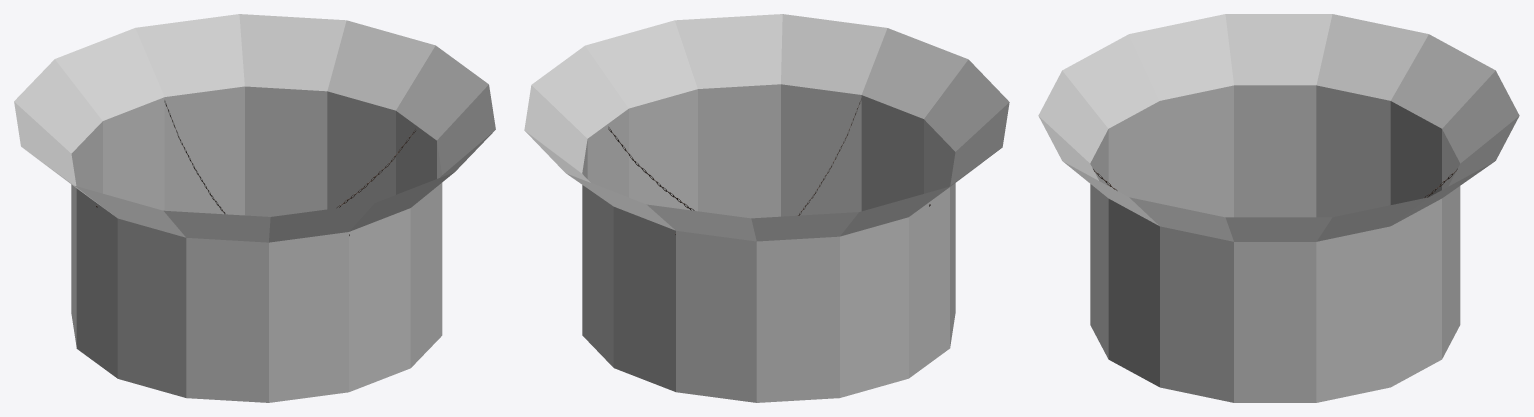
Rendered from BallOfDeath.fbx.
3 renders of one model, left to right at view 1: azimuth 30°, elevation 25°; view 2: azimuth 150°, elevation 25°; view 3: azimuth 270°, elevation 25°, orthographic.
Visible parts, largest first — view 1: Plane; view 2: Plane; view 3: Plane.
Boxes of the visible parts, left/top/right/bottom form: Plane: left=14, top=14, right=495, bottom=402; Plane: left=524, top=14, right=1009, bottom=402; Plane: left=1038, top=14, right=1519, bottom=402.
Bounding box in the file's own units: 45474 × 21800 × 45480.
